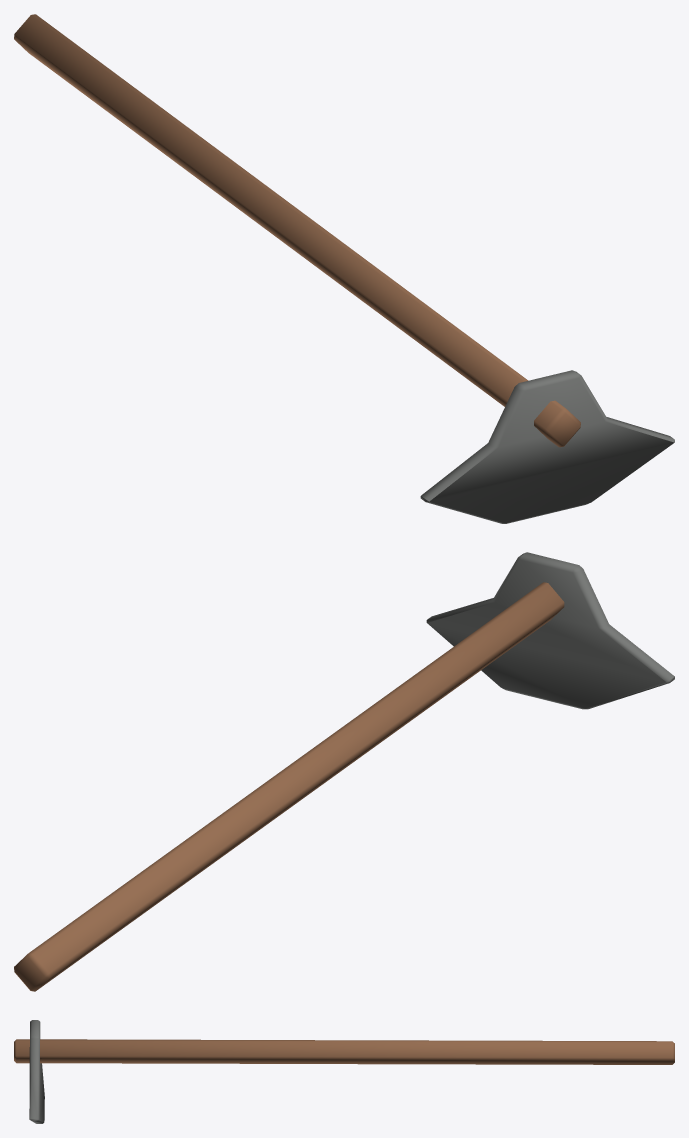
The model's file is Hoe_1.fbx.
The picture shows the model from 3 angles, top to bottom: view 1: azimuth 30°, elevation 25°; view 2: azimuth 150°, elevation 25°; view 3: azimuth 270°, elevation 25°; orthographic projection. The views are drawn at different scales.
Parts seen in each view (by area): view 1: Hoe_1; view 2: Hoe_1; view 3: Hoe_1.
Boxes of the visible parts, x1,y1,x2,y2 form: Hoe_1: (14,14,674,523); Hoe_1: (14,552,674,991); Hoe_1: (14,1020,674,1123).
Bounding box in the file's own units: 34.45 × 18.15 × 130.
